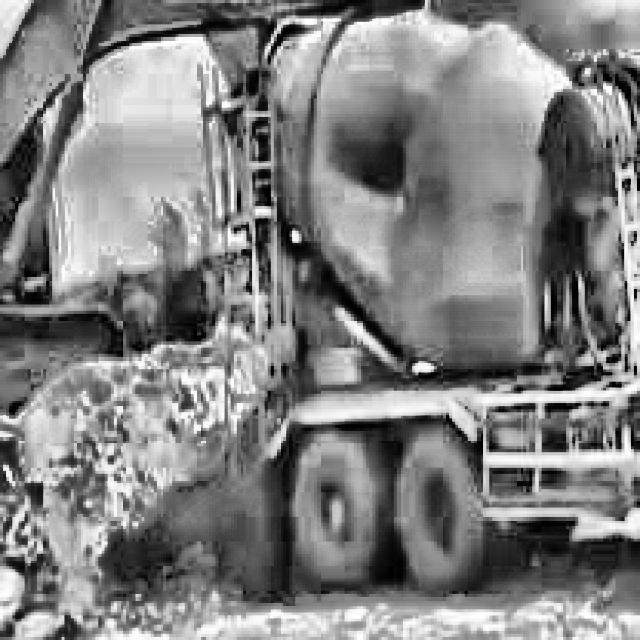excavator: (0, 0, 412, 480)
